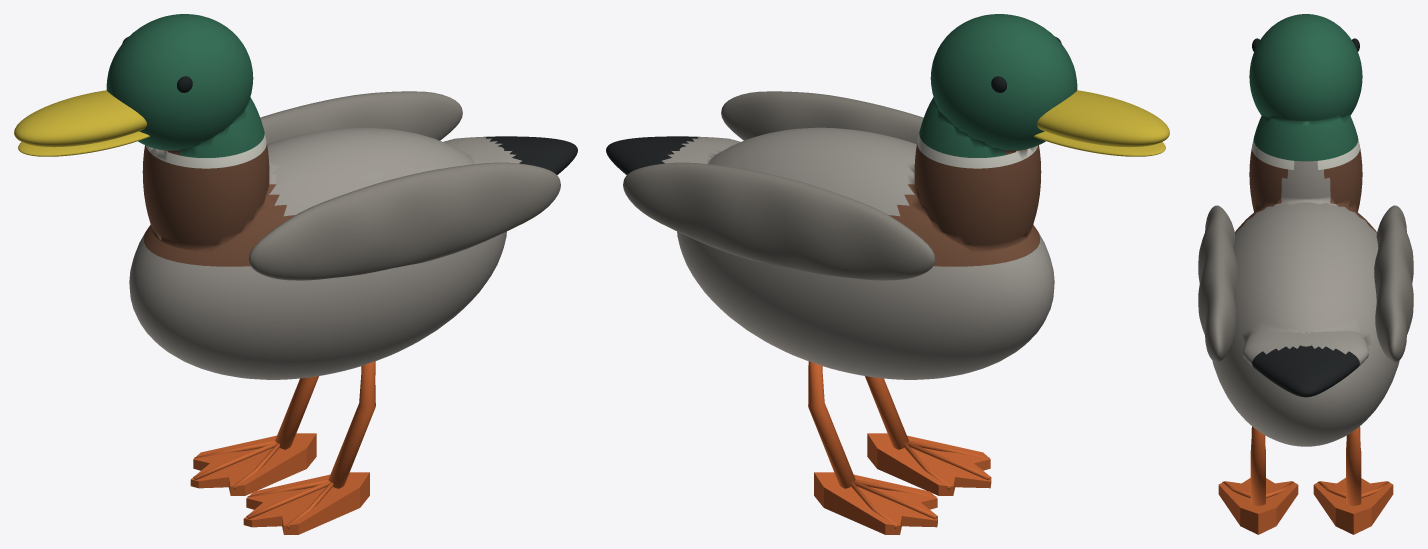
The picture shows the model from 3 angles, left to right: view 1: azimuth 30°, elevation 25°; view 2: azimuth 150°, elevation 25°; view 3: azimuth 270°, elevation 25°; orthographic projection. The views are drawn at different scales.
Visible parts, largest first — view 1: Continuous body neck head, Fold-out wing -1, Fold-out wing 1, Upper broad flattened bill, Complete webbed foot 1, Complete webbed foot -1, Leg -1, Leg 1, Lower bill complete surface; view 2: Continuous body neck head, Fold-out wing 1, Fold-out wing -1, Upper broad flattened bill, Complete webbed foot -1, Complete webbed foot 1, Leg 1, Leg -1, Lower bill complete surface; view 3: Continuous body neck head, Fold-out wing -1, Fold-out wing 1, Complete webbed foot 1, Complete webbed foot -1, Leg -1, Leg 1.
Part boxes in pixels (left/top/right/bottom): Continuous body neck head: left=106, top=14, right=577, bottom=379; Fold-out wing -1: left=248, top=162, right=560, bottom=280; Fold-out wing 1: left=260, top=91, right=462, bottom=143; Upper broad flattened bill: left=14, top=90, right=146, bottom=147; Complete webbed foot 1: left=190, top=433, right=316, bottom=495; Complete webbed foot -1: left=243, top=472, right=369, bottom=534; Leg -1: left=328, top=361, right=375, bottom=488; Leg 1: left=275, top=376, right=318, bottom=449; Lower bill complete surface: left=18, top=131, right=149, bottom=156; Continuous body neck head: left=606, top=14, right=1077, bottom=379; Fold-out wing 1: left=623, top=162, right=935, bottom=280; Fold-out wing -1: left=721, top=91, right=923, bottom=143; Upper broad flattened bill: left=1037, top=90, right=1169, bottom=147; Complete webbed foot -1: left=867, top=433, right=991, bottom=495; Complete webbed foot 1: left=814, top=472, right=937, bottom=534; Leg 1: left=808, top=361, right=855, bottom=488; Leg -1: left=865, top=376, right=908, bottom=449; Lower bill complete surface: left=1034, top=131, right=1165, bottom=156; Continuous body neck head: left=1212, top=14, right=1399, bottom=446; Fold-out wing -1: left=1198, top=205, right=1237, bottom=362; Fold-out wing 1: left=1374, top=205, right=1413, bottom=362; Complete webbed foot 1: left=1313, top=478, right=1393, bottom=534; Complete webbed foot -1: left=1218, top=478, right=1298, bottom=534; Leg -1: left=1250, top=426, right=1265, bottom=505; Leg 1: left=1346, top=426, right=1361, bottom=505.
Size of the model in its own units: 0.449 by 0.38 by 0.1677.
